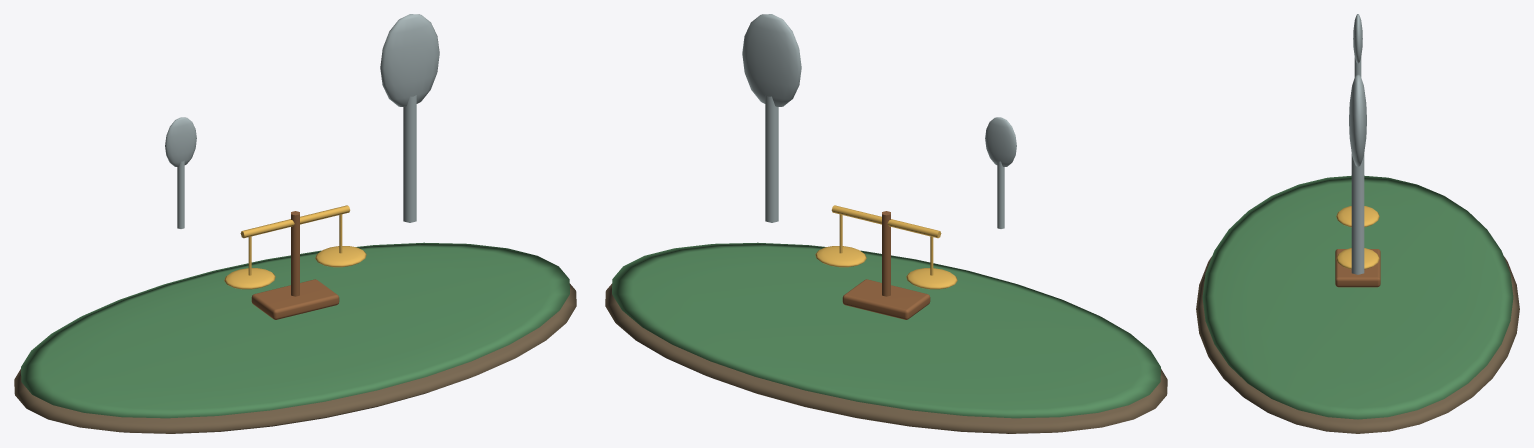
The model's file is complete-first-compare-two-spoons.glb.
3 renders of one model, left to right at view 1: azimuth 30°, elevation 25°; view 2: azimuth 150°, elevation 25°; view 3: azimuth 270°, elevation 25°, orthographic. The views are drawn at different scales.
Visible parts, largest first — view 1: complete-first-compare-two-spoons_surface_01, complete-first-compare-two-spoons_surface_00, complete-first-compare-two-spoons_surface_02, complete-first-compare-two-spoons_surface_03, complete-first-compare-two-spoons_surface_04; view 2: complete-first-compare-two-spoons_surface_01, complete-first-compare-two-spoons_surface_00, complete-first-compare-two-spoons_surface_02, complete-first-compare-two-spoons_surface_03, complete-first-compare-two-spoons_surface_04; view 3: complete-first-compare-two-spoons_surface_01, complete-first-compare-two-spoons_surface_00, complete-first-compare-two-spoons_surface_02, complete-first-compare-two-spoons_surface_03, complete-first-compare-two-spoons_surface_04.
Part boxes in pixels (bbox=[...]): complete-first-compare-two-spoons_surface_01: bbox=[21, 242, 569, 418]; complete-first-compare-two-spoons_surface_00: bbox=[14, 283, 576, 433]; complete-first-compare-two-spoons_surface_02: bbox=[165, 14, 439, 228]; complete-first-compare-two-spoons_surface_03: bbox=[251, 211, 339, 319]; complete-first-compare-two-spoons_surface_04: bbox=[224, 205, 366, 289]; complete-first-compare-two-spoons_surface_01: bbox=[612, 242, 1160, 418]; complete-first-compare-two-spoons_surface_00: bbox=[605, 283, 1167, 433]; complete-first-compare-two-spoons_surface_02: bbox=[742, 14, 1016, 228]; complete-first-compare-two-spoons_surface_03: bbox=[842, 211, 930, 319]; complete-first-compare-two-spoons_surface_04: bbox=[815, 205, 957, 289]; complete-first-compare-two-spoons_surface_01: bbox=[1202, 175, 1513, 419]; complete-first-compare-two-spoons_surface_00: bbox=[1196, 256, 1519, 433]; complete-first-compare-two-spoons_surface_02: bbox=[1349, 14, 1366, 274]; complete-first-compare-two-spoons_surface_03: bbox=[1335, 249, 1380, 287]; complete-first-compare-two-spoons_surface_04: bbox=[1336, 206, 1379, 269].
Bounding box in the file's own units: 4.56 × 2.57 × 2.5.
